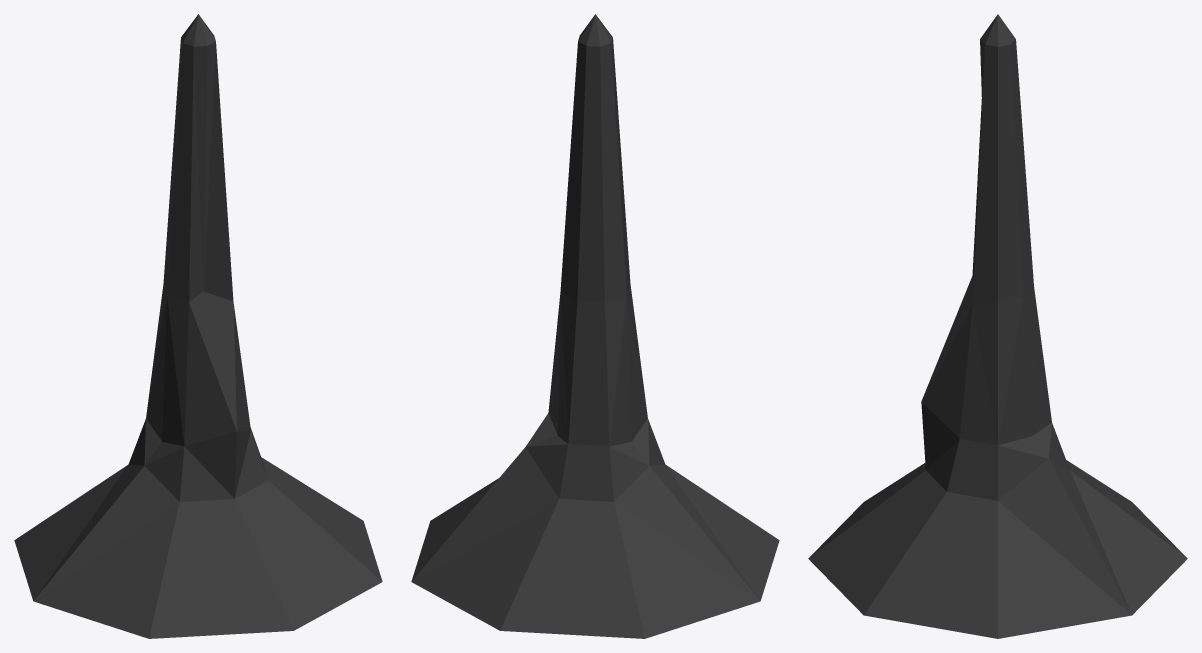
The model's file is Stal_2C.fbx.
3 views of the same model, side by side, from view 1: azimuth 30°, elevation 25°; view 2: azimuth 150°, elevation 25°; view 3: azimuth 270°, elevation 25° (orthographic).
Parts seen in each view (by area): view 1: pCone32; view 2: pCone32; view 3: pCone32.
Part boxes in pixels (x1,y1,x2,y2): pCone32: [14, 14, 382, 638]; pCone32: [411, 14, 779, 638]; pCone32: [808, 14, 1187, 638].
Size of the model in its own units: 1.58 by 2.5 by 1.58.
